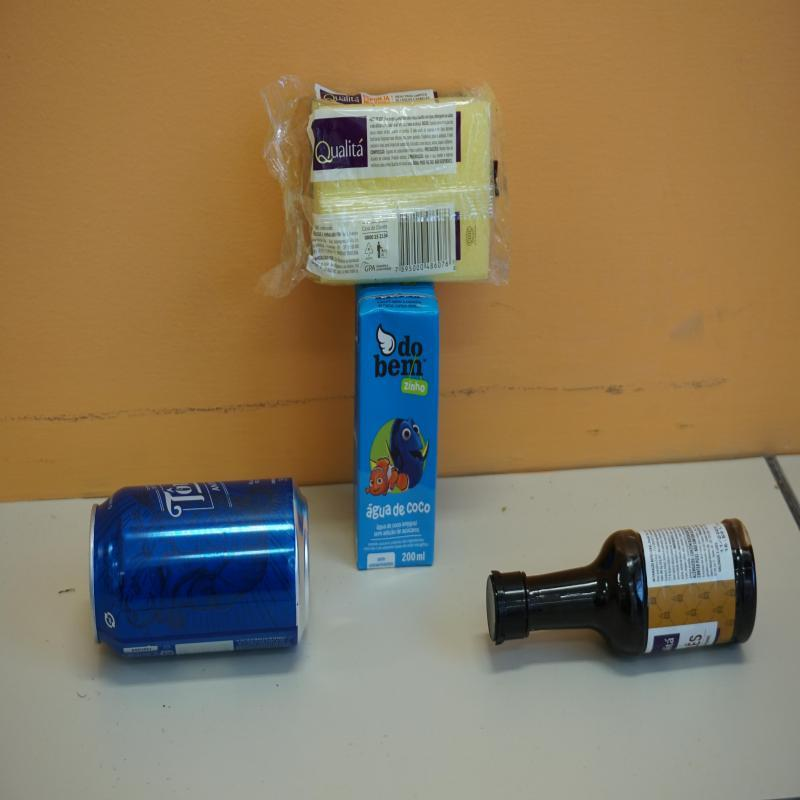CoconutWater: (352, 282, 442, 574)
EnglishSauce: (484, 519, 759, 661)
Sponge: (252, 72, 510, 299)
Tonic: (90, 479, 310, 664)
